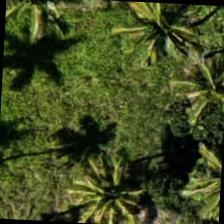Kelapa_Sawit: (65, 142, 161, 223), (112, 0, 206, 79), (168, 41, 223, 136)
